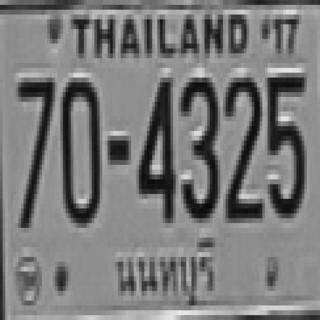N00: (59, 73, 101, 227)
N02: (224, 70, 264, 222)
N03: (180, 73, 220, 222)
N04: (136, 73, 176, 224)
N05: (265, 68, 307, 219)
N07: (16, 75, 56, 227)
P37: (113, 230, 217, 308)
